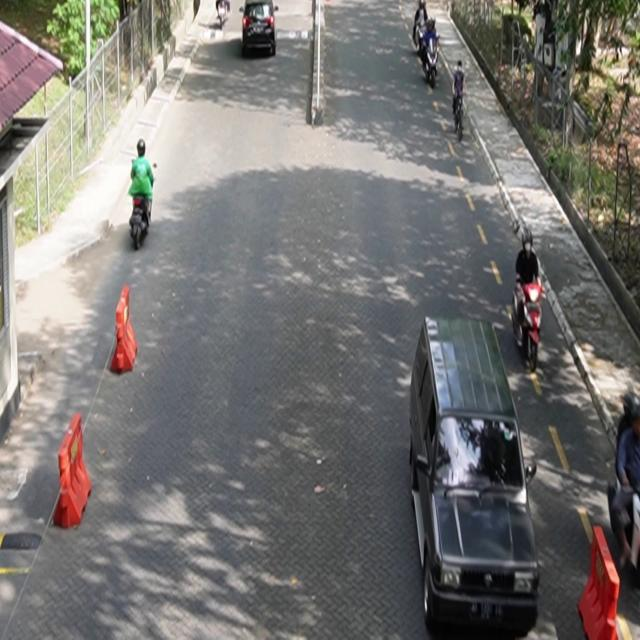car: (409, 316, 541, 635), (241, 1, 279, 58)
